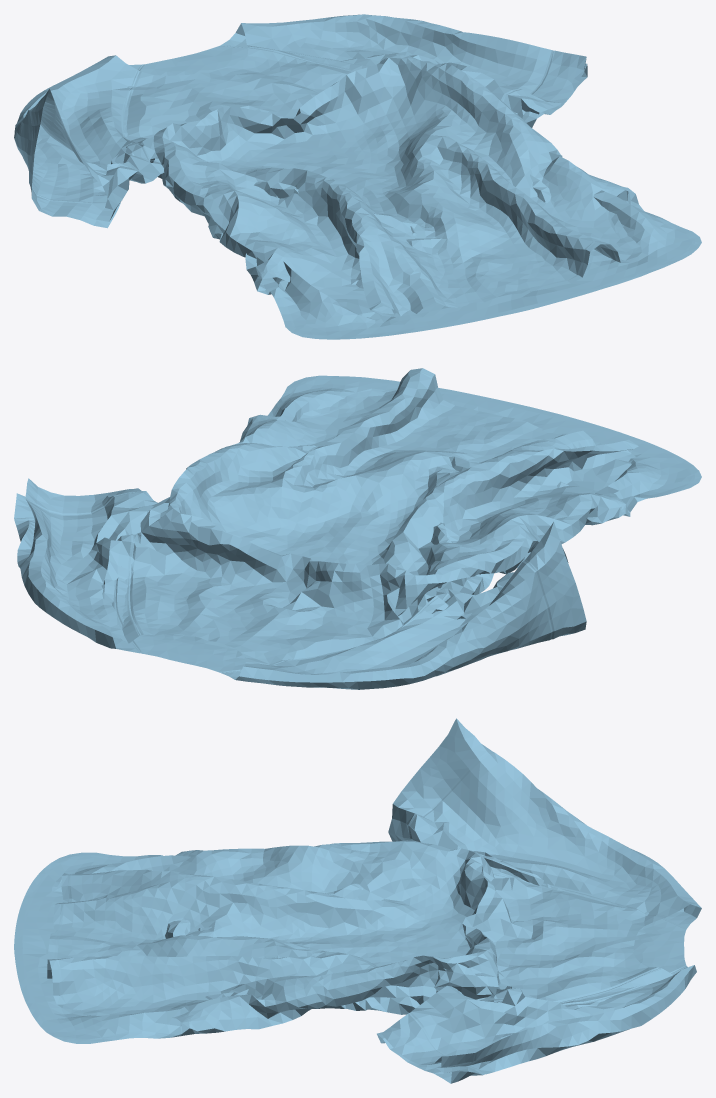
File: frame_05.glb
The picture shows the model from 3 angles, top to bottom: view 1: azimuth 30°, elevation 25°; view 2: azimuth 150°, elevation 25°; view 3: azimuth 270°, elevation 25°; orthographic projection. The views are drawn at different scales.
Visible parts, largest first — view 1: frame_05.obj; view 2: frame_05.obj; view 3: frame_05.obj.
Boxes of the visible parts, x1,y1,x2,y2 form: frame_05.obj: (14,14,701,339); frame_05.obj: (14,368,701,689); frame_05.obj: (14,718,701,1083).
Bounding box in the file's own units: 1.66 × 0.3482 × 1.83.
